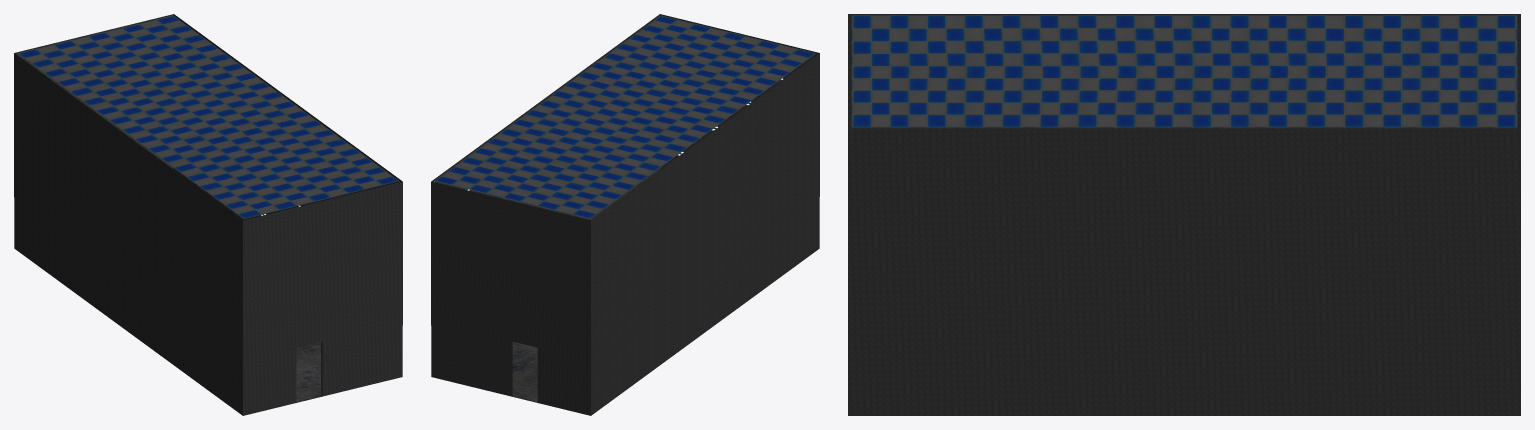
The model's file is Hab03.fbx.
3 renders of one model, left to right at view 1: azimuth 30°, elevation 25°; view 2: azimuth 150°, elevation 25°; view 3: azimuth 270°, elevation 25°, orthographic. The views are drawn at different scales.
Parts seen in each view (by area): view 1: Ref_habitacion03; view 2: Ref_habitacion03; view 3: Ref_habitacion03.
Boxes of the visible parts, x1,y1,x2,y2 form: Ref_habitacion03: (14, 14, 402, 415); Ref_habitacion03: (431, 14, 819, 415); Ref_habitacion03: (848, 14, 1520, 415).
Bounding box in the file's own units: 601 × 702 × 1490.
